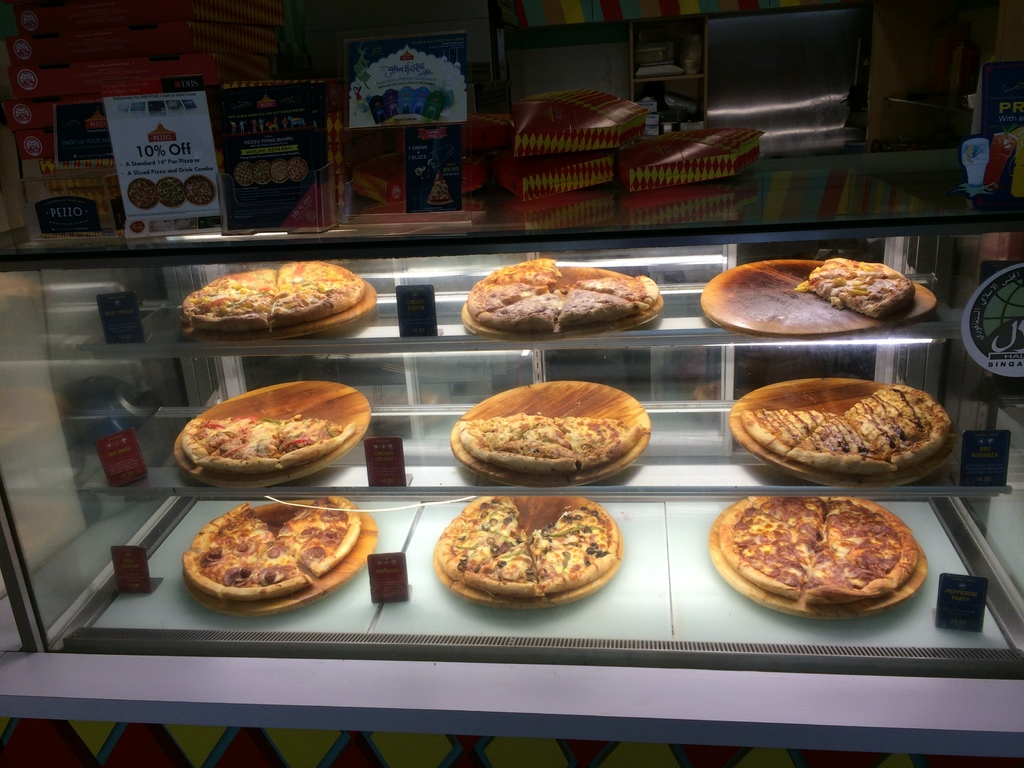Pizza: (704, 501, 920, 620), (456, 404, 648, 477), (178, 257, 360, 332), (181, 498, 313, 597), (176, 415, 358, 473), (440, 490, 534, 595), (522, 497, 623, 591), (272, 494, 365, 579), (785, 412, 890, 473), (845, 403, 942, 460), (805, 277, 922, 321), (552, 282, 653, 325), (472, 285, 556, 333), (862, 378, 949, 424), (737, 408, 823, 449), (800, 247, 903, 281), (469, 279, 546, 320), (478, 247, 558, 282), (582, 268, 656, 305)
